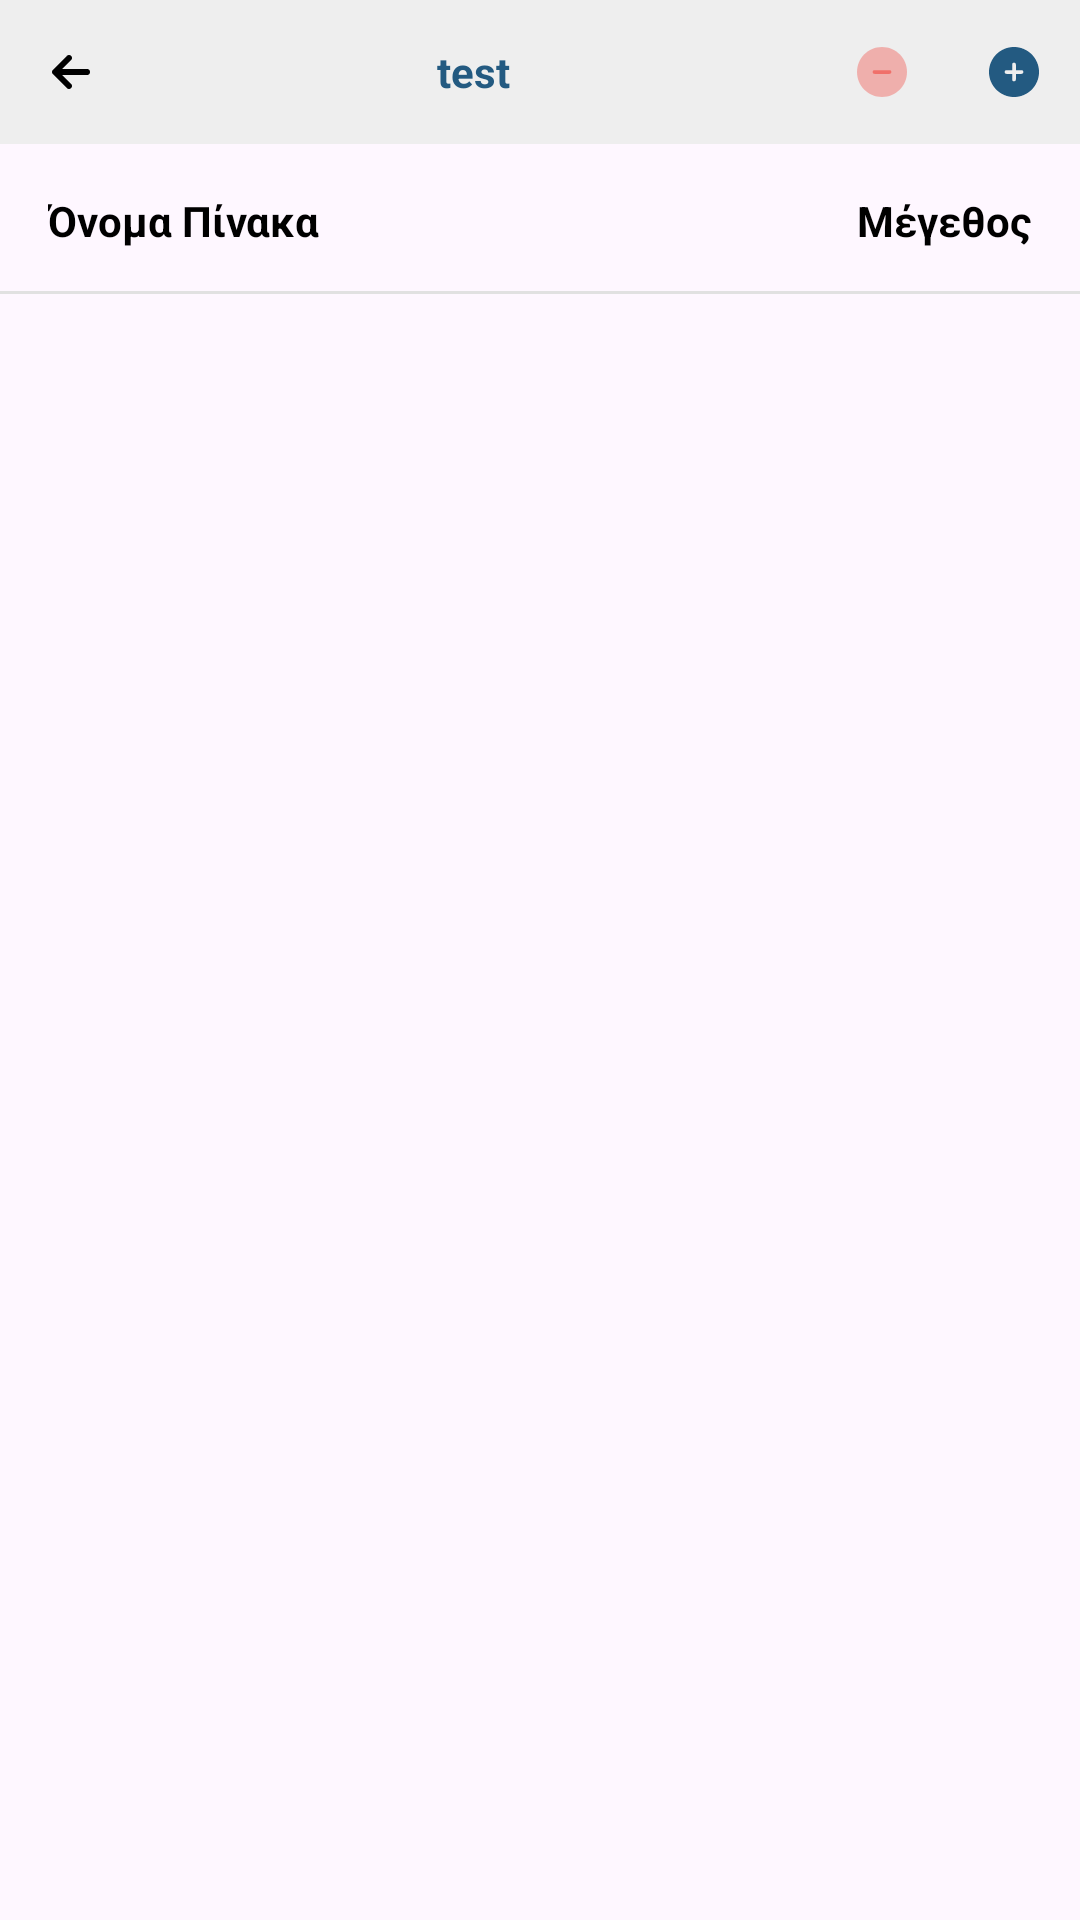

Named icons in this screenshot (1080px×1920px) and their bounding boxes, (x1, y1, x2, y2):
add circle: (989, 47, 1039, 97)
left arrow: (52, 55, 90, 89)
minus circle: (857, 47, 907, 97)
